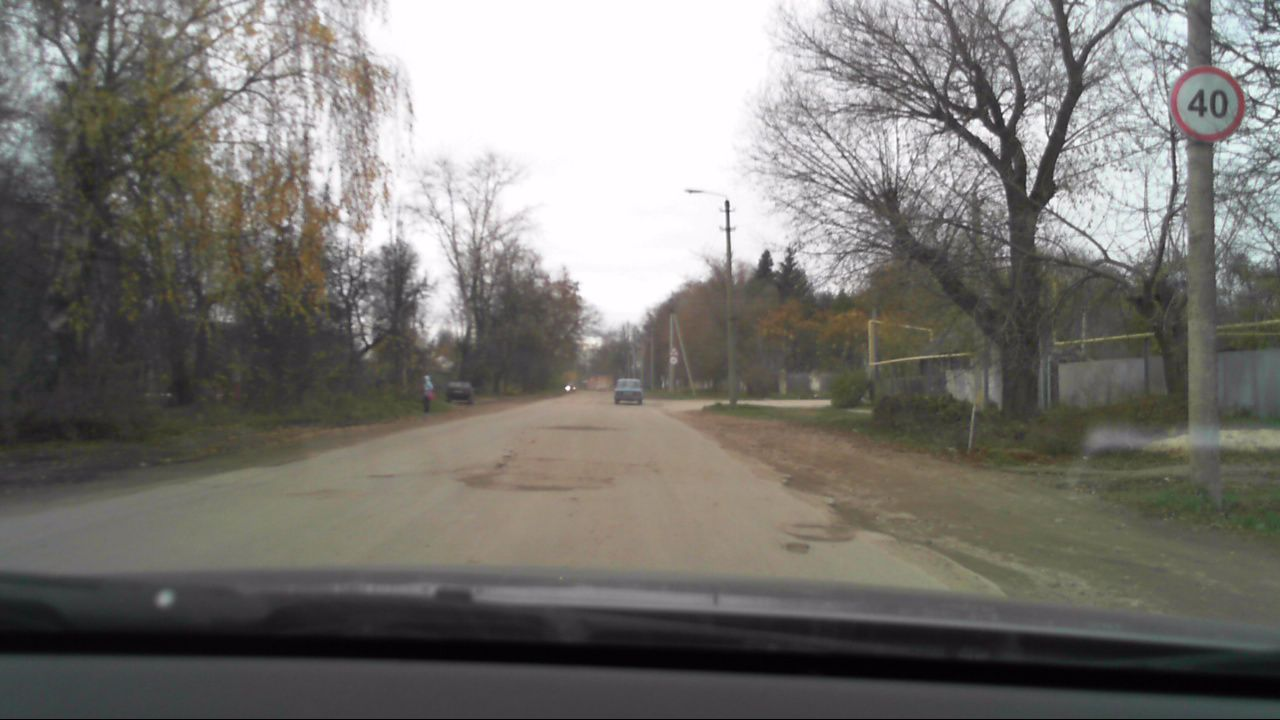speed_warning_40: (1168, 65, 1249, 144)
